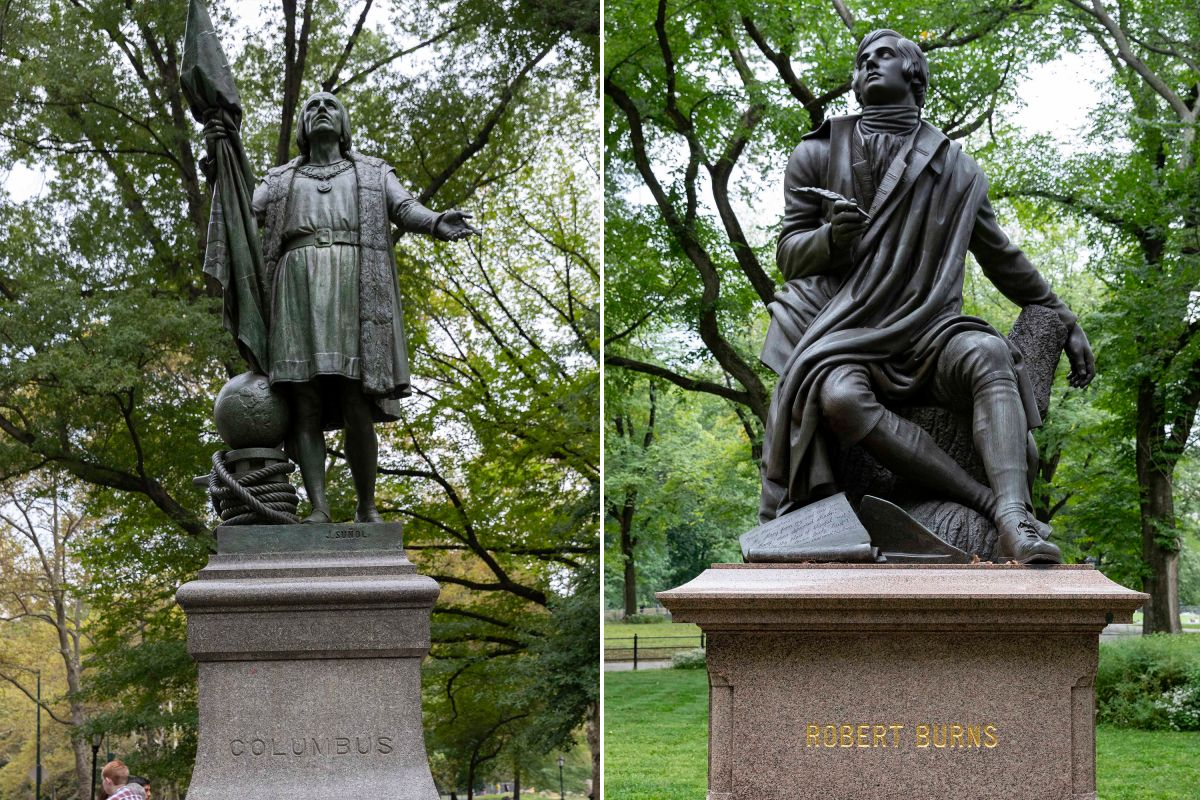person-like: (749, 24, 1105, 575), (195, 84, 474, 530)
